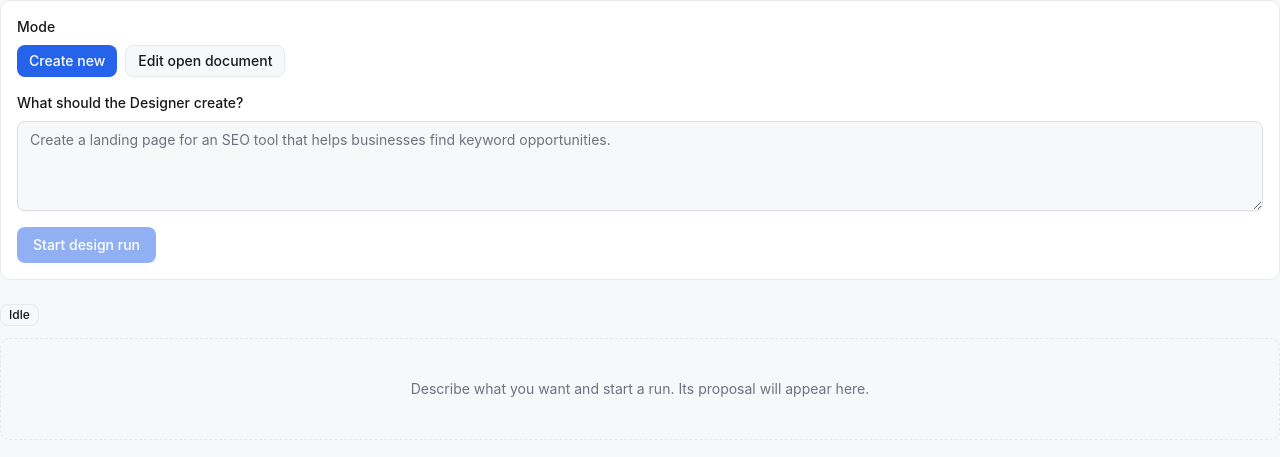
Test: Designer › submits an intent run, tracks it and bookmarks the run id
The width and height of the screenshot is (1280, 457).
Replace the text in the text box labelled "What should the Designer create?" with "Create a pricing page" at (640, 166), box [17,121,1263,211]
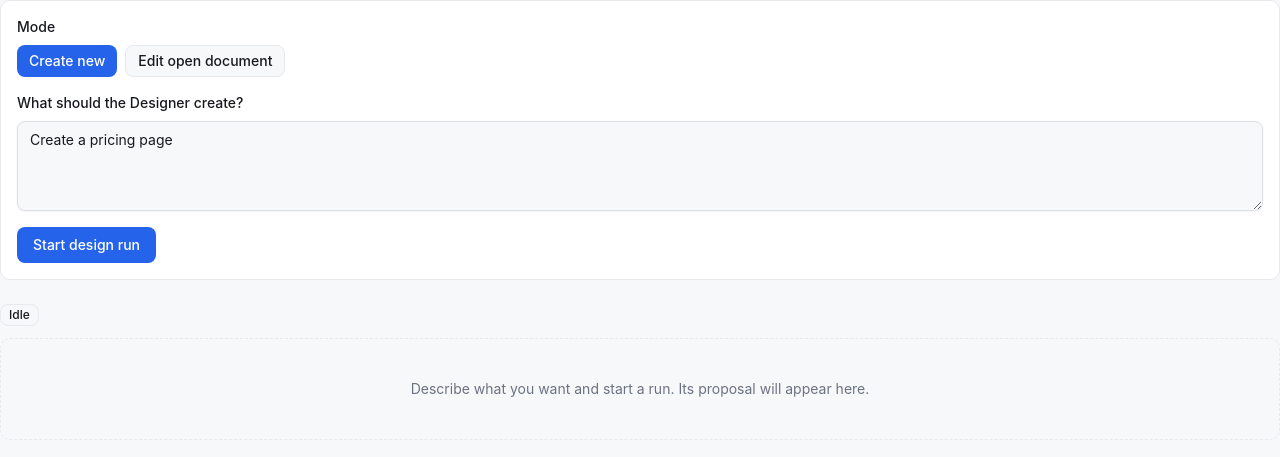
Click the button "Start design run" at (86, 245), box [17,227,156,263]
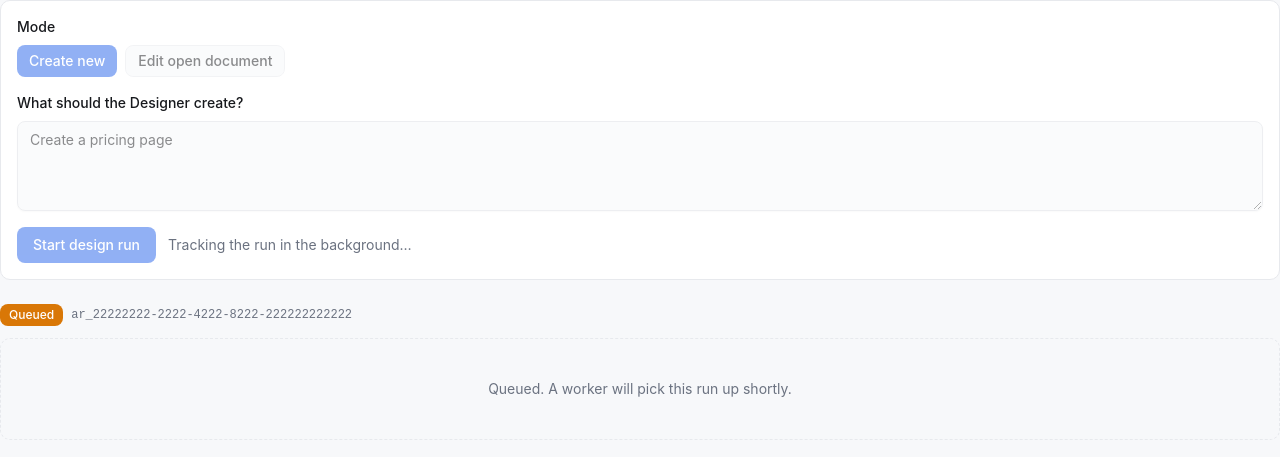
Expected: the text "Queued" is shown, [0,304,63,326]
Expected: the text "ar_22222222-2222-4222-8222-222222222222" is shown, [71,307,352,323]
